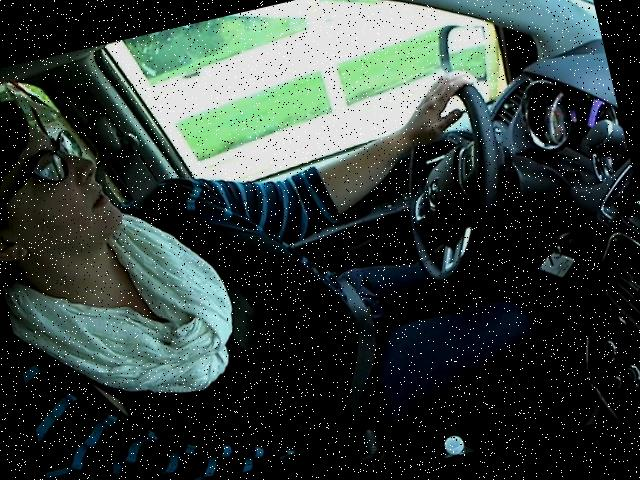c5 - Reaching Behind: (0, 0, 560, 479)
